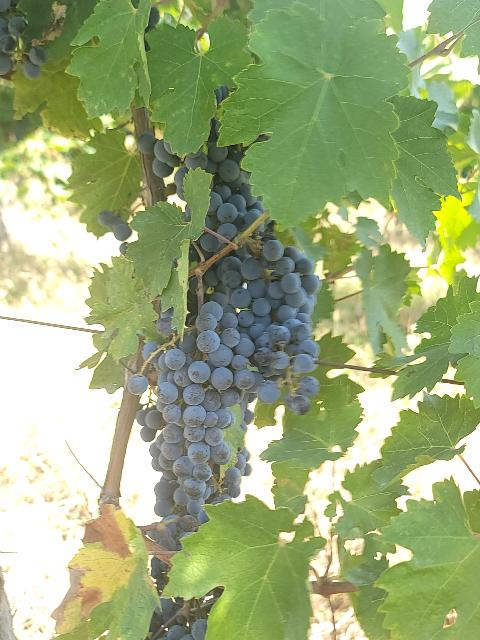grapes: (145, 301, 256, 498), (221, 240, 320, 415)
